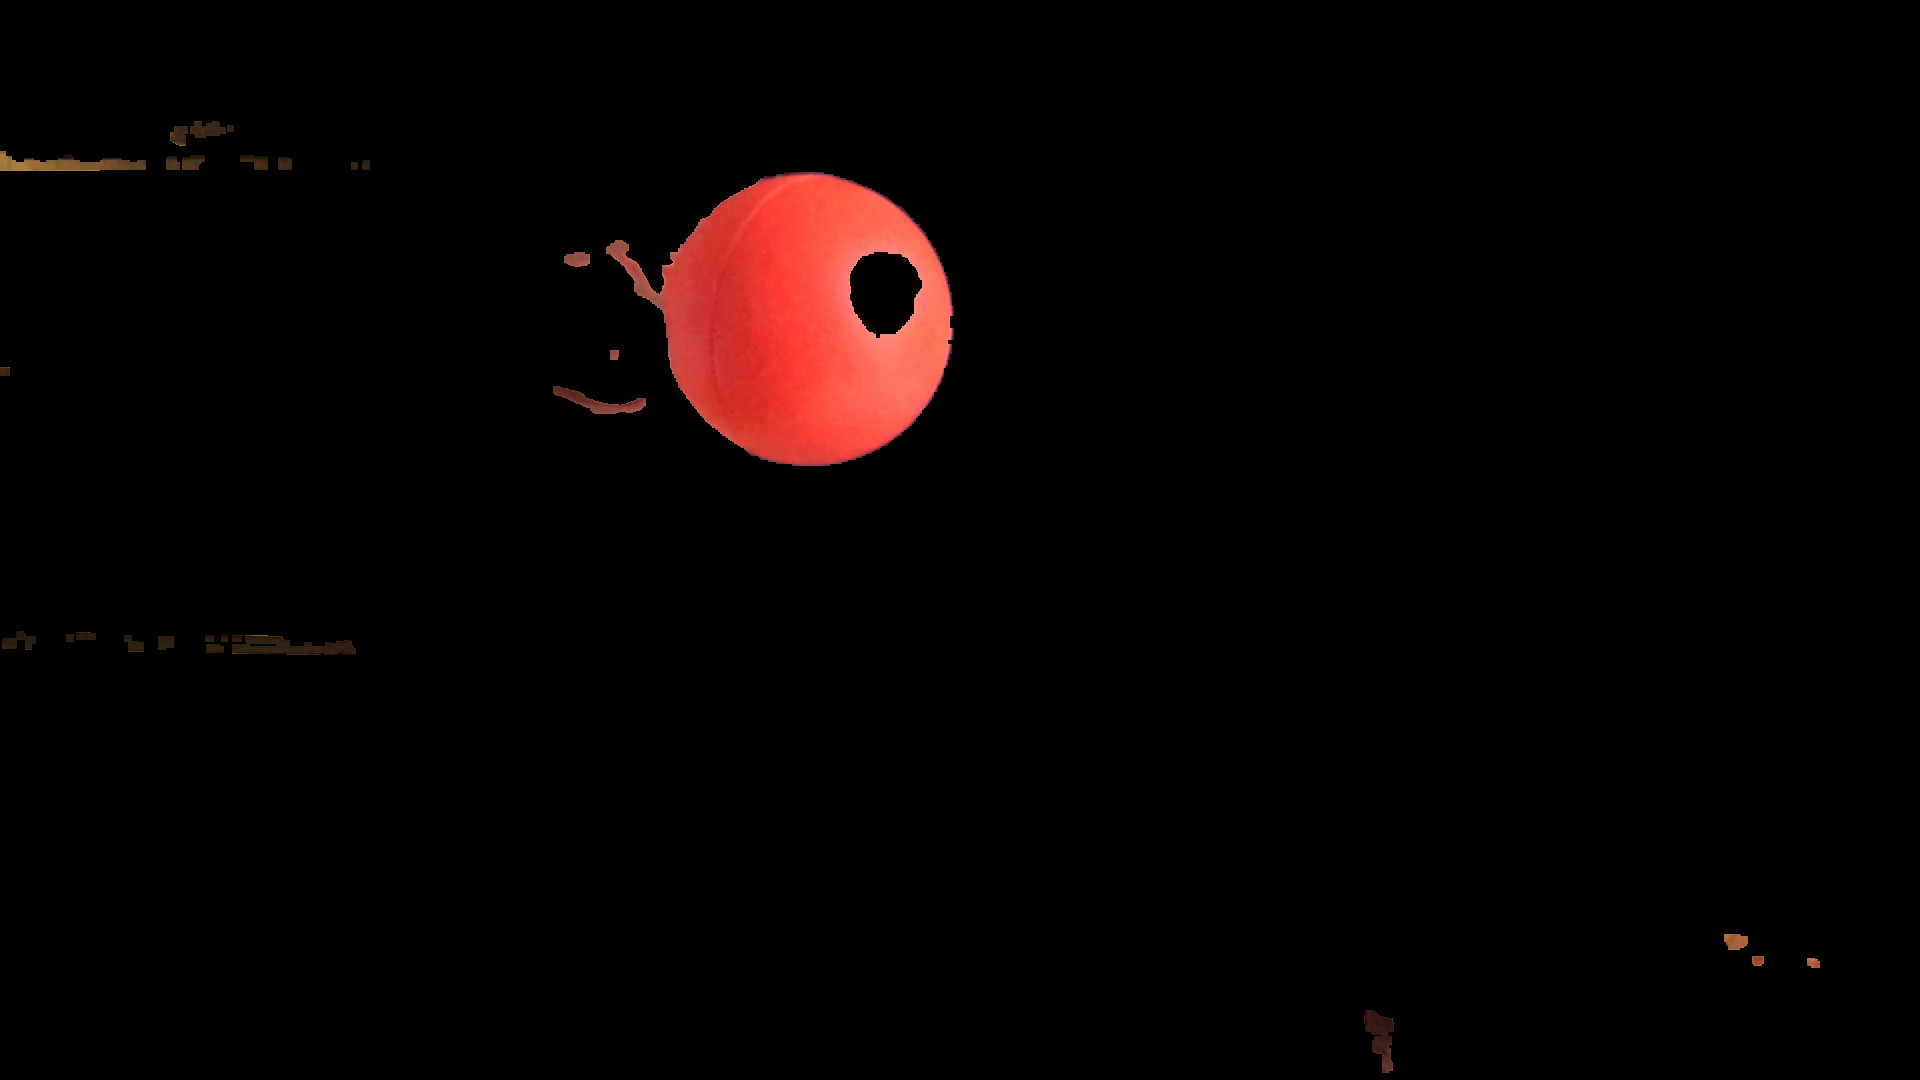Ball: (671, 171, 953, 468)
